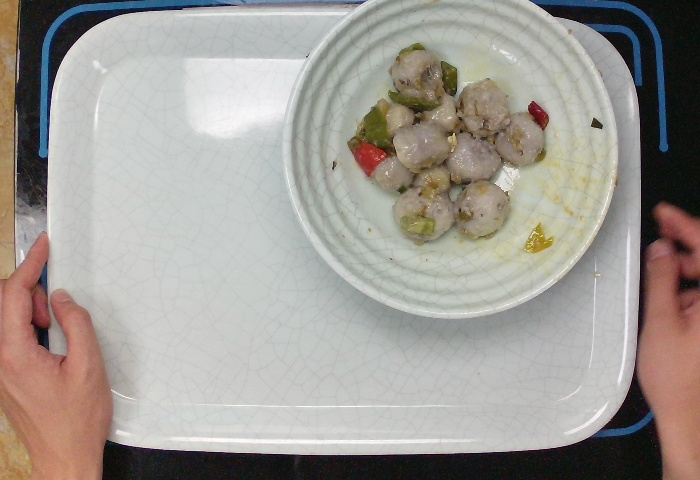JYsf-Da_Tang_Wan: (278, 2, 625, 321)
